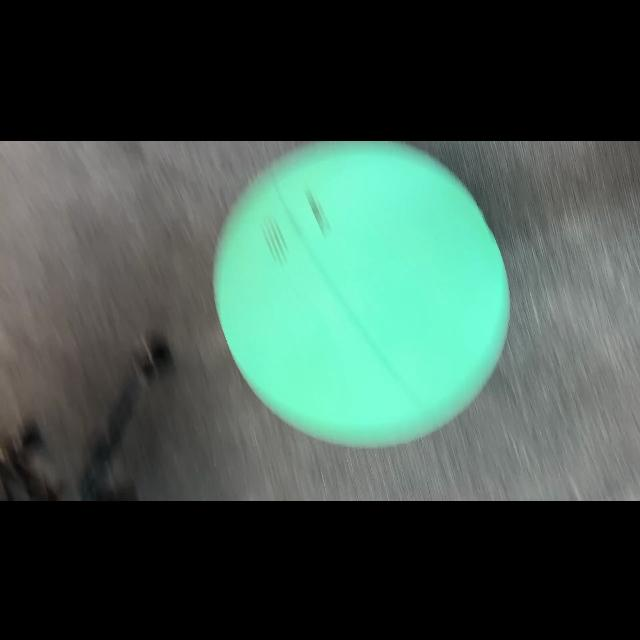ALGAE: (211, 140, 511, 448)
